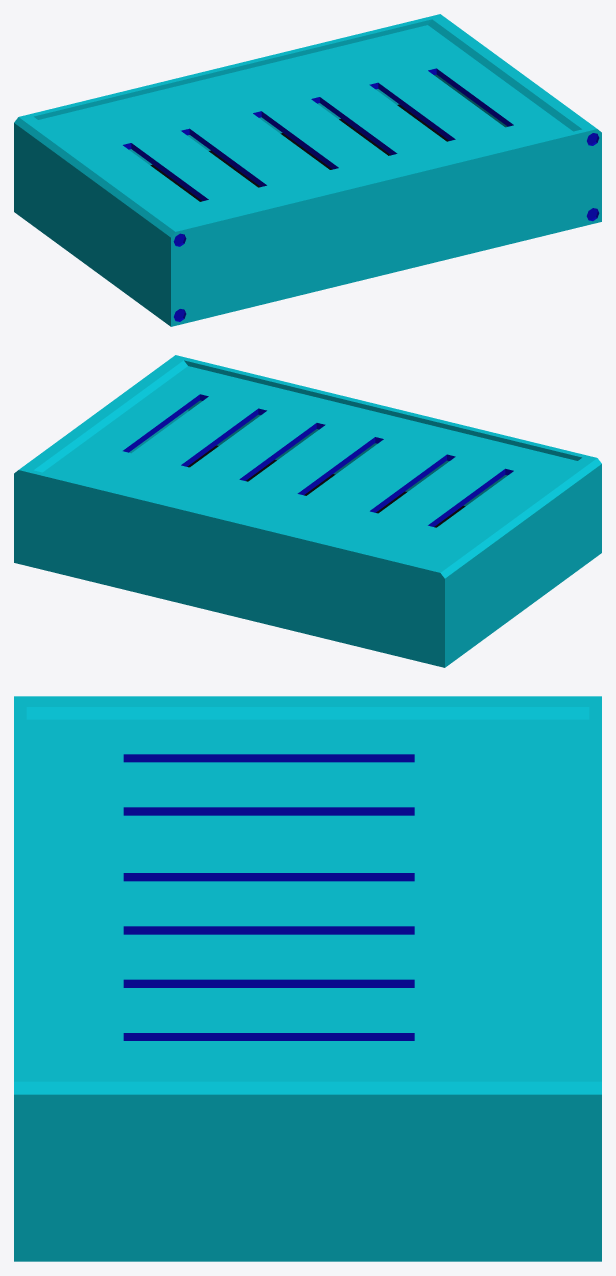
Rendered from ting.glb.
The picture shows the model from 3 angles, top to bottom: view 1: azimuth 30°, elevation 25°; view 2: azimuth 150°, elevation 25°; view 3: azimuth 270°, elevation 25°; orthographic projection. The views are drawn at different scales.
Parts seen in each view (by area): view 1: path8006.001; view 2: path8006.001; view 3: path8006.001.
Boxes of the visible parts, x1,y1,x2,y2 form: path8006.001: (14, 14, 601, 326); path8006.001: (14, 355, 601, 667); path8006.001: (14, 696, 601, 1261).
Bounding box in the file's own units: 0.1355 × 0.0282 × 0.0855.
